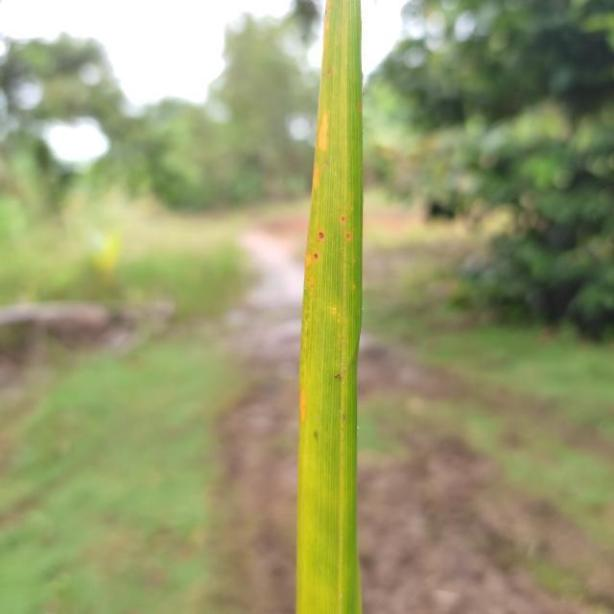nitrogen: (301, 0, 363, 614)
